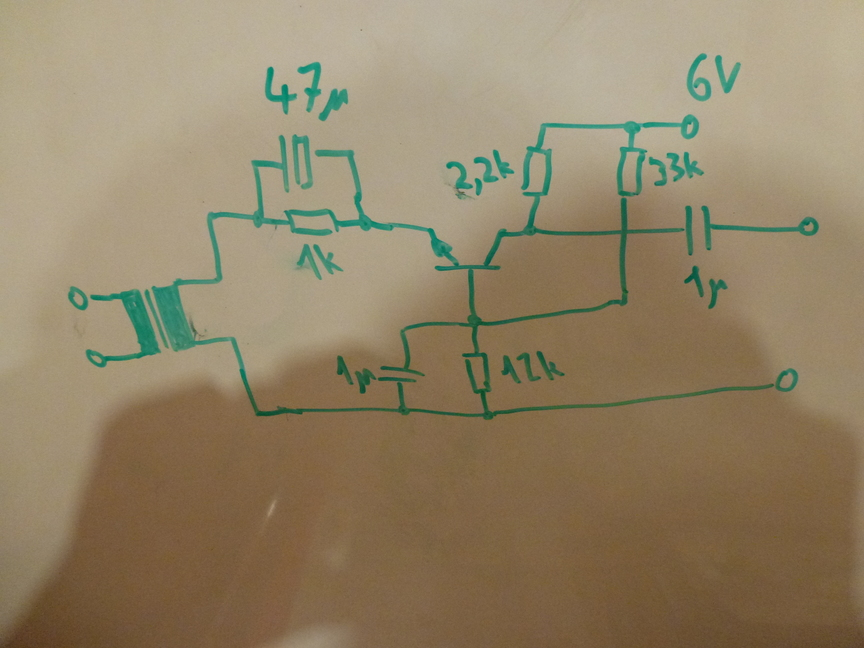capacitor.polarized: (273, 130, 326, 197)
capacitor.unpolarized: (675, 199, 732, 259), (377, 354, 427, 398)
crossover: (611, 223, 635, 243)
junction: (247, 205, 272, 232), (619, 115, 644, 138), (351, 213, 377, 234), (462, 311, 486, 331), (246, 155, 266, 174), (518, 221, 539, 239), (534, 117, 554, 134), (200, 207, 220, 224), (479, 406, 497, 424), (612, 293, 632, 309), (342, 144, 360, 160), (212, 270, 227, 288), (251, 406, 267, 422), (224, 332, 241, 347), (394, 322, 410, 337), (394, 403, 410, 418)
resistor: (280, 203, 345, 240), (519, 142, 555, 203), (613, 141, 647, 203), (458, 346, 495, 402)
terminal: (765, 364, 808, 397), (64, 281, 98, 314), (791, 210, 824, 242), (673, 111, 704, 142), (80, 344, 112, 371)
text: (260, 59, 352, 126), (442, 147, 518, 197), (682, 50, 746, 107), (496, 347, 569, 390), (681, 261, 731, 312), (293, 240, 351, 283), (647, 149, 706, 189), (329, 350, 378, 397)
transformer: (117, 277, 200, 356)
transistor: (421, 218, 512, 282)
